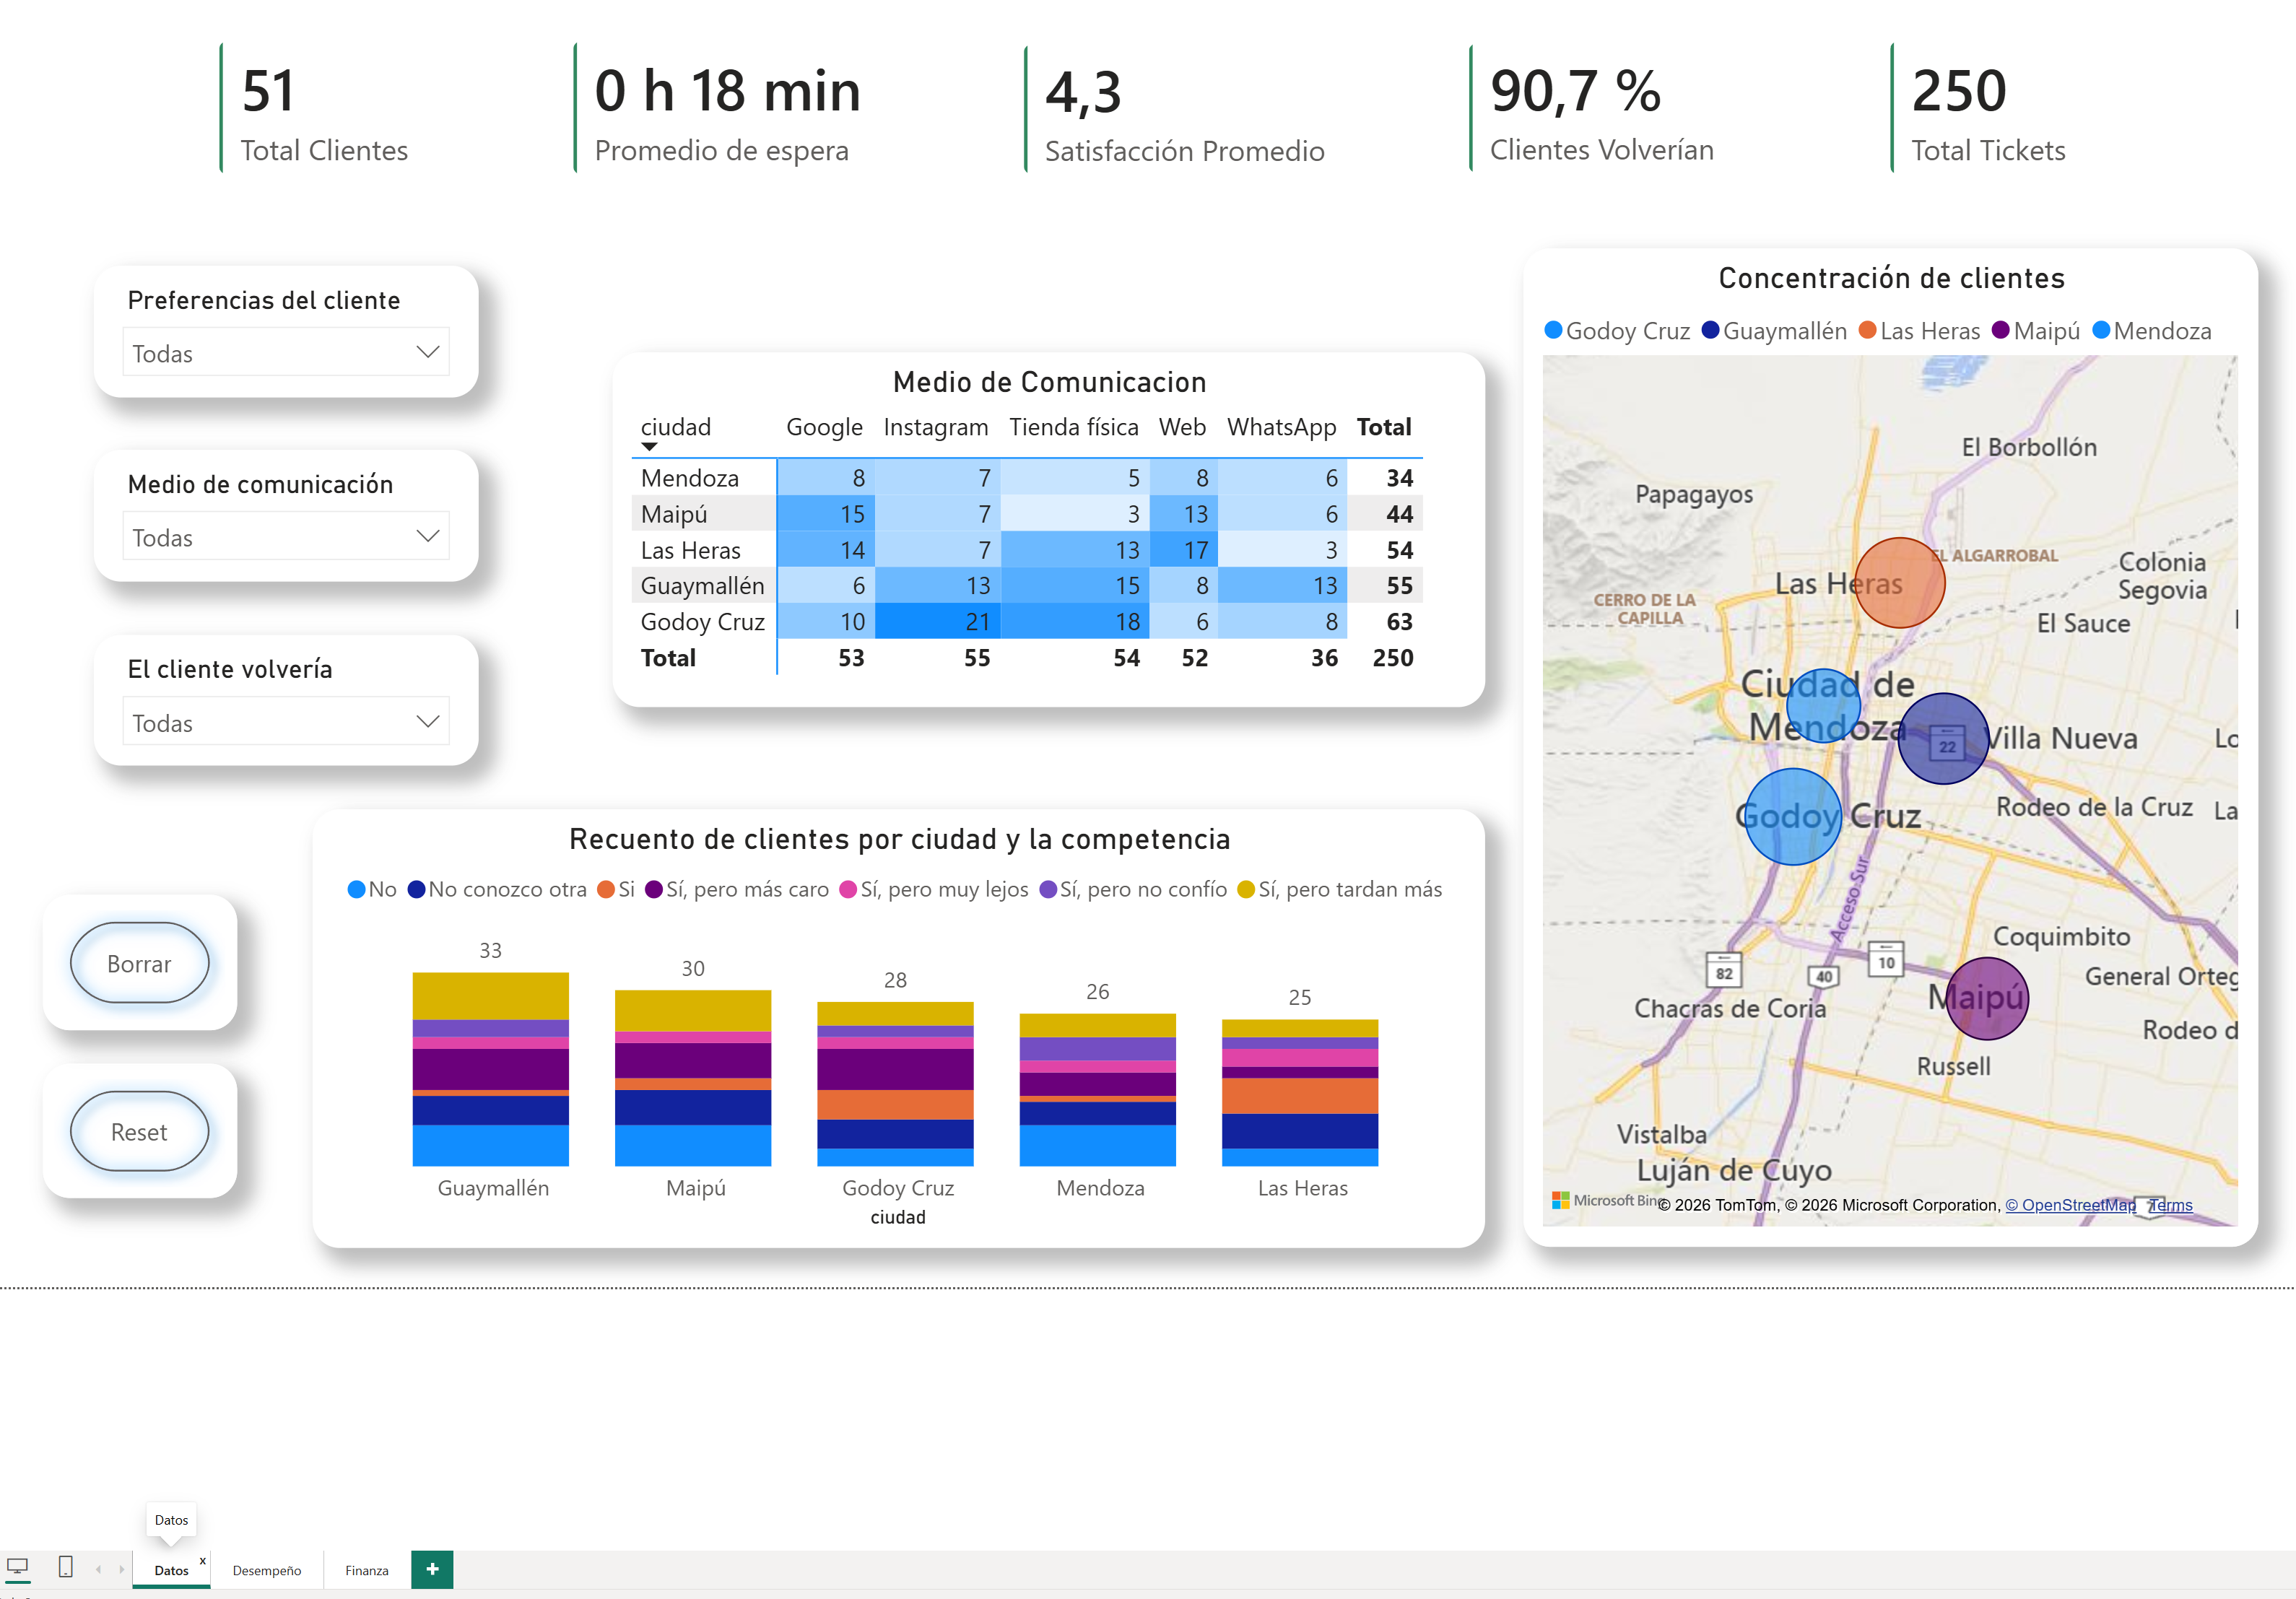

What the dashboard file says about the page in this screenshot:
{"tool":"powerbi","page":{"name":"Datos","canvas":[1280,720],"ordinal":0},"visuals":[{"type":"map","title":"Concentración de clientes","fields":{"Y":["ciudad_coordenadas.latitud"],"X":["ciudad_coordenadas.Longitud"],"Series":["ciudad_coordenadas.ciudad"],"Size":["CountNonNull(tickets_reparacion.id_ticket)"]},"box":[850.5,142.4,408.9,555.4],"z":0},{"type":"pivotTable","title":"Medio de Comunicacion","fields":{"Rows":["ciudad_coordenadas.ciudad"],"Columns":["tickets_reparacion.canal"],"Values":["CountNonNull(tickets_reparacion.id_ticket)"]},"box":[344.1,199.7,485.2,197.6],"z":1000},{"type":"columnChart","title":"Recuento de clientes por ciudad y la competencia","fields":{"Series":["encuesta.competencia"],"Y":["CountNonNull(encuesta.id_cliente)"],"Category":["ciudad_coordenadas.ciudad"]},"box":[177.2,453.9,652.2,244],"z":2000},{"type":"cardVisual","fields":{"Data":["Medidas.Total Clientes"]},"box":[107.7,9.5,171.7,108.4],"z":3000},{"type":"cardVisual","fields":{"Data":["Medidas.Total Tickets"]},"box":[1037.2,9.5,164.2,108.4],"z":4000},{"type":"cardVisual","fields":{"Data":["Medidas.Tiempo Espera HorasMin"]},"box":[304.6,9.5,237.1,108.4],"z":5000},{"type":"cardVisual","fields":{"Data":["Medidas.Satisfacción Promedio"]},"box":[555.4,11.6,231,107],"z":6000},{"type":"cardVisual","fields":{"Data":["Medidas.Clientes Volverían"]},"box":[802.8,10.9,218.1,107],"z":7000},{"type":"slicer","fields":{"Values":["encuesta.gustos"]},"box":[55.4,152,214,73.6],"z":8000},{"type":"slicer","fields":{"Values":["tickets_reparacion.canal"]},"box":[55.4,254.4,214,73.6],"z":9000},{"type":"slicer","fields":{"Values":["encuesta.volveria"]},"box":[55.4,356.9,214,72.9],"z":10000},{"type":"actionButton","box":[27.3,501.5,107.8,75.4],"z":11000},{"type":"actionButton","box":[27.3,595.6,107.7,75],"z":12000}]}

Visuals, with their boxes on the page's 1280x720 design canvas (x1, y1, x2, y2). These are canvas units, not pixel positions in the 2296x1599 screenshot, which may show the page scaled, cropped or inside an application window:
"Concentración de clientes" map: select_region(850, 142, 1259, 698)
"Medio de Comunicacion" pivotTable: select_region(344, 200, 829, 397)
"Recuento de clientes por ciudad y la competencia" columnChart: select_region(177, 454, 829, 698)
cardVisual - Medidas.Total Clientes: select_region(108, 10, 279, 118)
cardVisual - Medidas.Total Tickets: select_region(1037, 10, 1201, 118)
cardVisual - Medidas.Tiempo Espera HorasMin: select_region(305, 10, 542, 118)
cardVisual - Medidas.Satisfacción Promedio: select_region(555, 12, 786, 119)
cardVisual - Medidas.Clientes Volverían: select_region(803, 11, 1021, 118)
slicer - encuesta.gustos: select_region(55, 152, 269, 226)
slicer - tickets_reparacion.canal: select_region(55, 254, 269, 328)
slicer - encuesta.volveria: select_region(55, 357, 269, 430)
actionButton: select_region(27, 502, 135, 577)
actionButton: select_region(27, 596, 135, 671)
